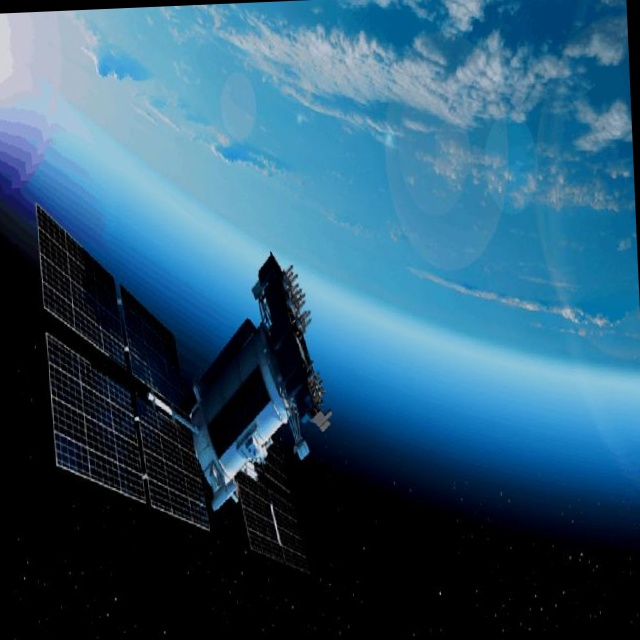medium_debris: (21, 172, 349, 603)
